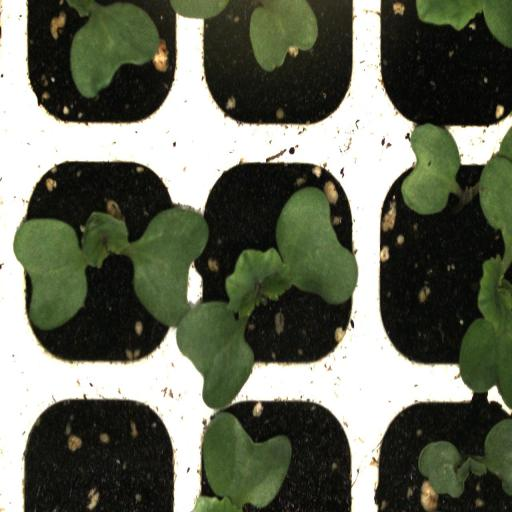seedling: (190, 143, 368, 382), (15, 142, 189, 378)
twoseedling: (366, 143, 512, 382)
